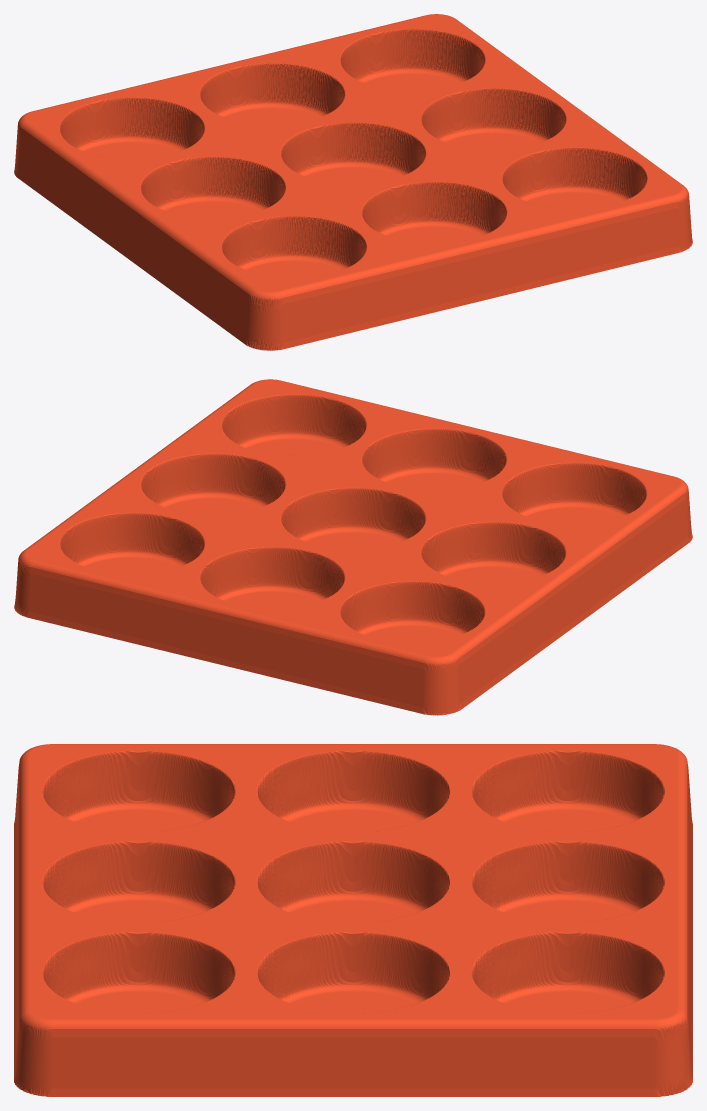
File: mold.glb
3 renders of one model, top to bottom at view 1: azimuth 30°, elevation 25°; view 2: azimuth 150°, elevation 25°; view 3: azimuth 270°, elevation 25°, orthographic. The views are drawn at different scales.
Parts seen in each view (by area): view 1: geometry_0; view 2: geometry_0; view 3: geometry_0.
Boxes of the visible parts, <box> form: geometry_0: <box>14,14,692,350</box>; geometry_0: <box>14,379,692,715</box>; geometry_0: <box>14,744,692,1096</box>.
Size of the model in its own units: 0.1595 by 0.0185 by 0.1595.
